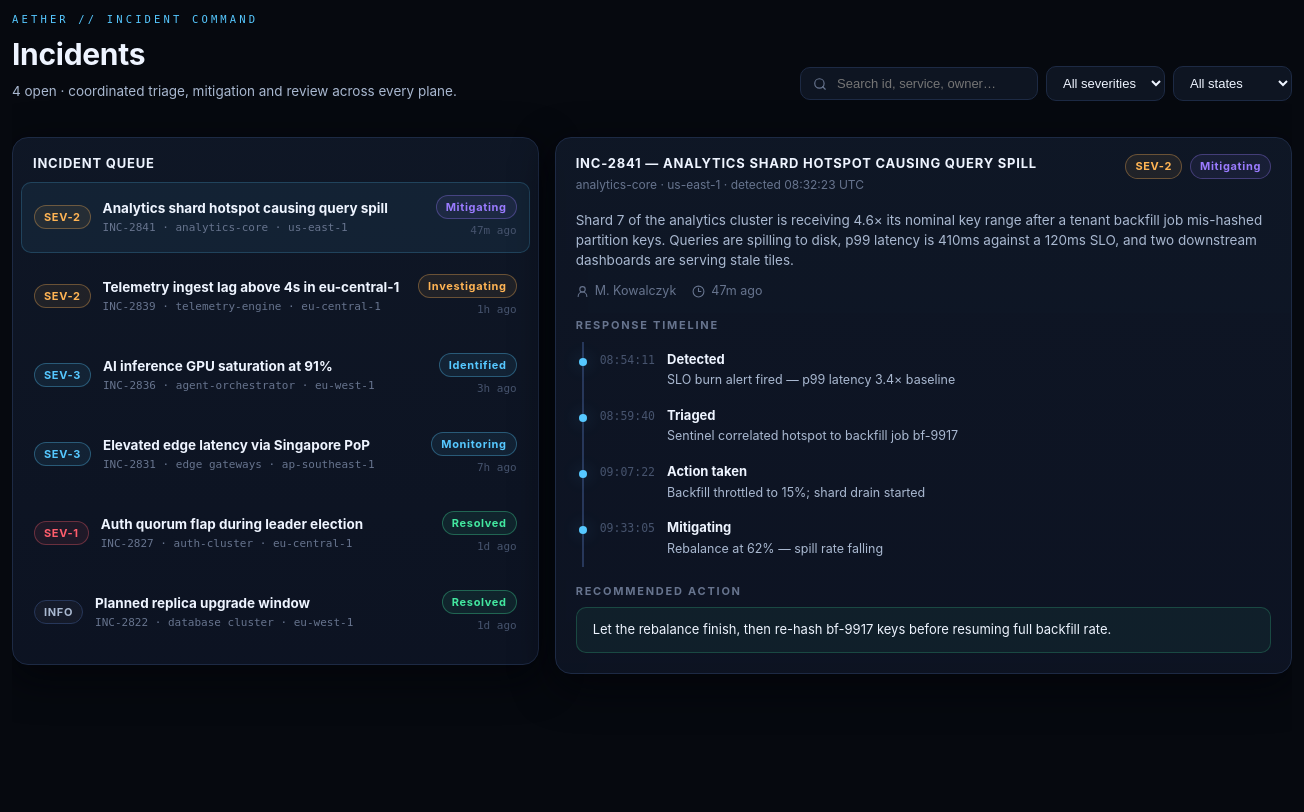
Test: incident command center › filters the queue through search
Type "telemetry" into the field named "Search incidents" at (930, 84), box [835, 75, 1025, 92]
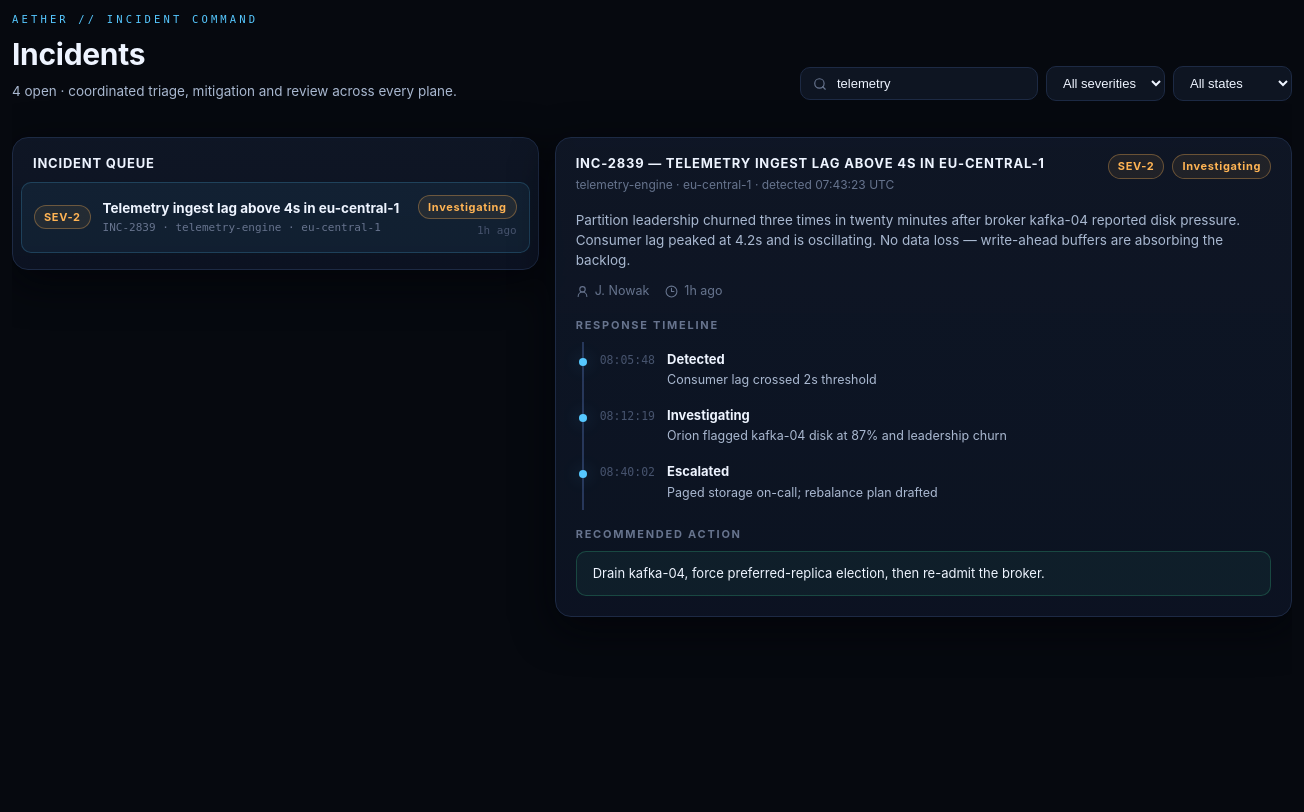
Expected: the text "Telemetry ingest lag above 4s in eu-central-1" is shown, [103, 198, 406, 218]
Expected: the button "Analytics shard hotspot" is gone
